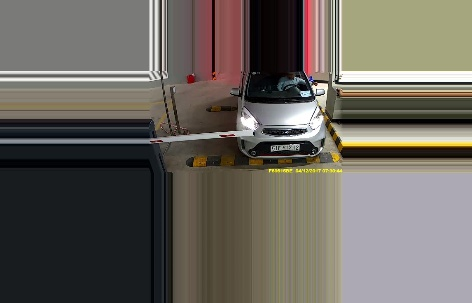plate: (270, 142, 303, 154)
